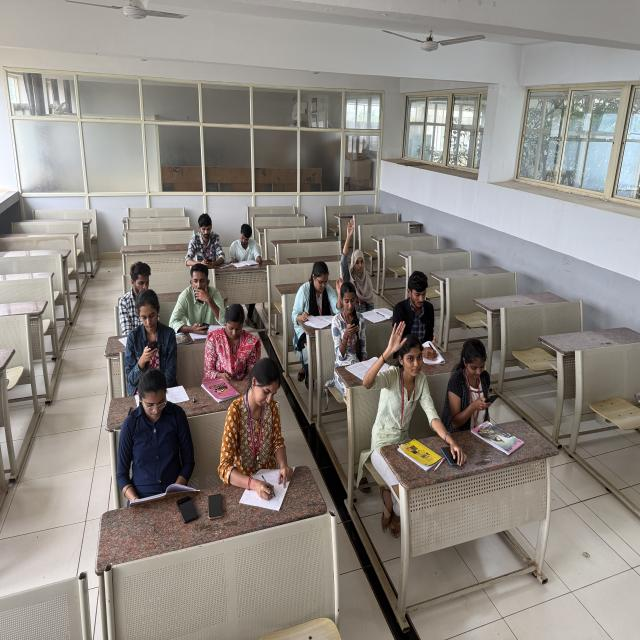Hand Rising: (366, 319, 438, 425), (340, 217, 384, 302)
Reading: (111, 380, 203, 508), (290, 257, 344, 328), (225, 221, 270, 275)
Using Phone: (120, 287, 182, 387), (444, 341, 504, 424), (205, 298, 263, 382), (173, 265, 230, 340), (185, 210, 229, 270)
Writing: (214, 361, 300, 504), (387, 274, 446, 367)
